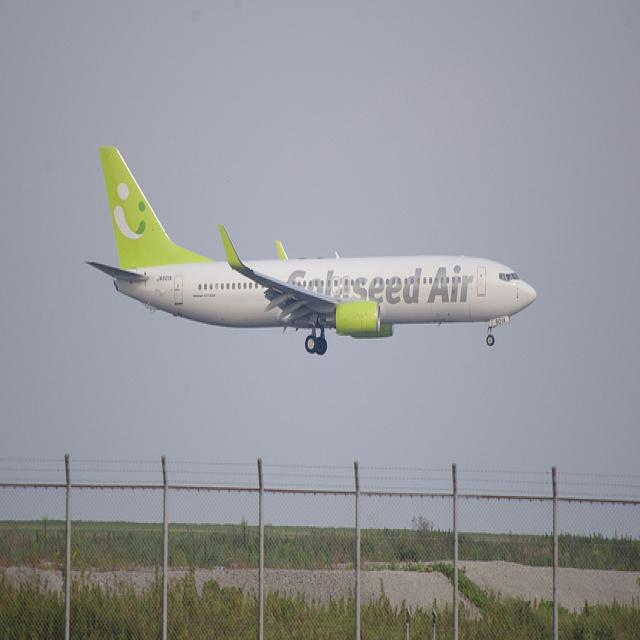airplane: (82, 144, 540, 358)
